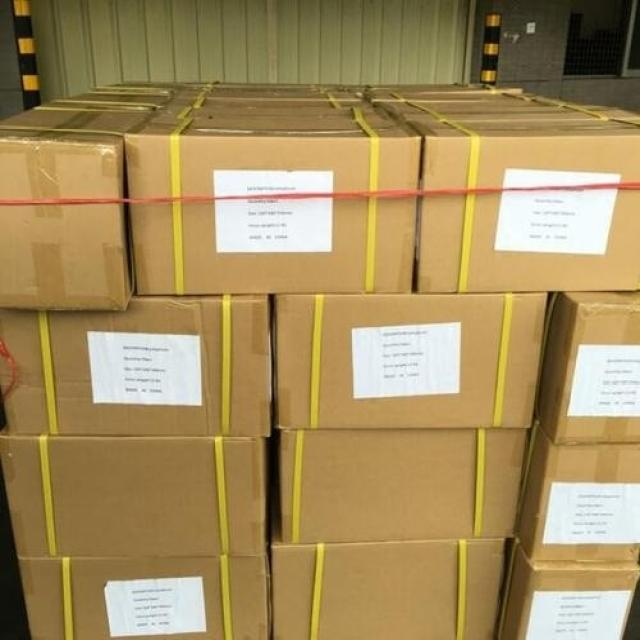box: (124, 114, 421, 293), (405, 120, 639, 292), (0, 293, 273, 436), (273, 293, 547, 430), (0, 421, 267, 557), (270, 490, 508, 639), (0, 100, 161, 310), (277, 428, 529, 544), (19, 556, 270, 639), (514, 422, 639, 565), (533, 291, 639, 444), (498, 538, 638, 639), (369, 96, 639, 125), (167, 85, 367, 105), (156, 102, 391, 119), (362, 83, 538, 101), (48, 83, 179, 107)
